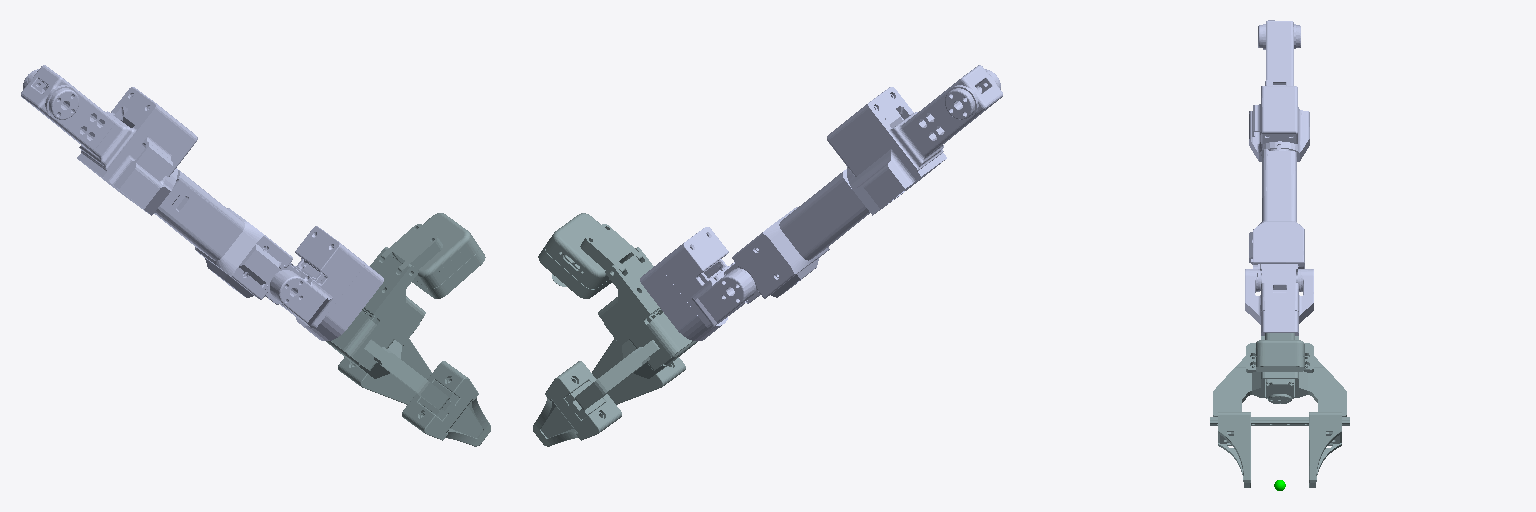
URDF robot description (Alicia_D_v5_6_gripper_50mm):
<?xml version="1.0" encoding="utf-8"?>
<!-- This URDF was automatically created by SolidWorks to URDF Exporter! Originally created by Stephen Brawner (brawner@gmail.com) 
     Commit Version: 1.6.0-4-g7f85cfe  Build Version: 1.6.7995.38578
     For more information, please see http://wiki.ros.org/sw_urdf_exporter -->
<robot
  name="Alicia_D_v5_6_gripper_50mm">
 <mujoco>
    <compiler meshdir="package://alicia_d_descriptions/meshes/Alicia_D_v5_6/gripper_50mm/" discardvisual="false" />
    <contact>
      <exclude body1="base_link" body2="Link1"/>
      <exclude body1="Link1" body2="Link2"/>
      <exclude body1="Link2" body2="Link3"/>
      <exclude body1="Link3" body2="Link4"/>
      <exclude body1="Link4" body2="Link5"/>
      <exclude body1="Link5" body2="Link6"/>
      <exclude body1="Link6" body2="left_gripper"/>
      <exclude body1="left_gripper" body2="right_gripper"/>
    </contact>
  </mujoco>


  <link
    name="base_link">
    <inertial>
      <origin
        xyz="-0.00082623480513569 -0.00797844274231199 0.0457675129193652"
        rpy="0 0 0" />
      <mass
        value="0.733961424024115" />
      <inertia
        ixx="0.00138410344770525"
        ixy="5.67201110400179E-05"
        ixz="-5.14360165173003E-07"
        iyy="0.00173617223701657"
        iyz="1.48652204618575E-05"
        izz="0.00274667683202573" />
    </inertial>
    <visual>
      <origin
        xyz="0 0 0"
        rpy="0 0 0" />
      <geometry>
        <mesh
          filename="package://alicia_d_descriptions/meshes/Alicia_D_v5_6/gripper_50mm/base_link.STL" />
      </geometry>
      <material
        name="">
        <color
          rgba="0.807843137254902 0.843137254901961 0.905882352941176 1" />
      </material>
    </visual>
    <collision>
      <origin
        xyz="0 0 0"
        rpy="0 0 0" />
      <geometry>
        <mesh
          filename="package://alicia_d_descriptions/meshes/Alicia_D_v5_6/gripper_50mm/base_link.STL" />
      </geometry>
    </collision>
  </link>
  <link
    name="Link1">
    <inertial>
      <origin
        xyz="0.000230595970657381 1.29045409715261E-05 0.00303135669887118"
        rpy="0 0 0" />
      <mass
        value="0.195233453613076" />
      <inertia
        ixx="0.000258351125080287"
        ixy="8.79363230587616E-07"
        ixz="6.87511805714776E-07"
        iyy="0.000149307709395501"
        iyz="1.07703111544012E-06"
        izz="0.000339791274038166" />
    </inertial>
    <visual>
      <origin
        xyz="0 0 0"
        rpy="0 0 0" />
      <geometry>
        <mesh
          filename="package://alicia_d_descriptions/meshes/Alicia_D_v5_6/gripper_50mm/Link1.STL" />
      </geometry>
      <material
        name="">
        <color
          rgba="0.796078431372549 0.823529411764706 0.937254901960784 1" />
      </material>
    </visual>
    <collision>
      <origin
        xyz="0 0 0"
        rpy="0 0 0" />
      <geometry>
        <mesh
          filename="package://alicia_d_descriptions/meshes/Alicia_D_v5_6/gripper_50mm/Link1.STL" />
      </geometry>
    </collision>
  </link>
  <joint
    name="Joint1"
    type="revolute">
    <origin
      xyz="0 0 0.1295"
      rpy="0 0 0" />
    <parent
      link="base_link" />
    <child
      link="Link1" />
    <axis
      xyz="0 0 1" />
    <limit
      lower="-2.749"
      upper="2.749"
      effort="5"
      velocity="12" />
  </joint>
  <link
    name="Link2">
    <inertial>
      <origin
        xyz="-0.15058869562262 0.000866069014338703 -0.00065095059586996"
        rpy="0 0 0" />
      <mass
        value="0.207033693061784" />
      <inertia
        ixx="0.000128135500181764"
        ixy="-1.3851037649769E-07"
        ixz="-4.91817924788182E-06"
        iyy="0.000205708390605209"
        iyz="3.50025103450784E-07"
        izz="0.000122721347332604" />
    </inertial>
    <visual>
      <origin
        xyz="0 0 0"
        rpy="0 0 0" />
      <geometry>
        <mesh
          filename="package://alicia_d_descriptions/meshes/Alicia_D_v5_6/gripper_50mm/Link2.STL" />
      </geometry>
      <material
        name="">
        <color
          rgba="0.807843137254902 0.843137254901961 0.905882352941176 1" />
      </material>
    </visual>
    <collision>
      <origin
        xyz="0 0 0"
        rpy="0 0 0" />
      <geometry>
        <mesh
          filename="package://alicia_d_descriptions/meshes/Alicia_D_v5_6/gripper_50mm/Link2.STL" />
      </geometry>
    </collision>
  </link>
  <joint
    name="Joint2"
    type="revolute">
    <origin
      xyz="0 0 0.04287"
      rpy="1.5708 1.5708 0" />
    <parent
      link="Link1" />
    <child
      link="Link2" />
    <axis
      xyz="0 0 1" />
    <limit
      lower="-1.5708"
      upper="1.5708"
      effort="5"
      velocity="12" />
  </joint>
  <link
    name="Link3">
    <inertial>
      <origin
        xyz="0.00248143782929389 -0.055786319810667 0.000269720725051862"
        rpy="0 0 0" />
      <mass
        value="0.0845575681430809" />
      <inertia
        ixx="7.61918370068429E-05"
        ixy="2.26498116289359E-06"
        ixz="-3.82299515503443E-07"
        iyy="2.87941478239853E-05"
        iyz="5.38445390787693E-06"
        izz="8.04370664405606E-05" />
    </inertial>
    <visual>
      <origin
        xyz="0 0 0"
        rpy="0 0 0" />
      <geometry>
        <mesh
          filename="package://alicia_d_descriptions/meshes/Alicia_D_v5_6/gripper_50mm/Link3.STL" />
      </geometry>
      <material
        name="">
        <color
          rgba="0.792156862745098 0.819607843137255 0.933333333333333 1" />
      </material>
    </visual>
    <collision>
      <origin
        xyz="0 0 0"
        rpy="0 0 0" />
      <geometry>
        <mesh
          filename="package://alicia_d_descriptions/meshes/Alicia_D_v5_6/gripper_50mm/Link3.STL" />
      </geometry>
    </collision>
  </link>
  <joint
    name="Joint3"
    type="revolute">
    <origin
      xyz="-0.22367 0.022492 -5E-05"
      rpy="0 0 2.3562" />
    <parent
      link="Link2" />
    <child
      link="Link3" />
    <axis
      xyz="0 0 1" />
    <limit
      lower="-0.78"
      upper="3.14"
      effort="5"
      velocity="12" />
  </joint>
  <link
    name="Link4">
    <inertial>
      <origin
        xyz="0.000298365499180664 -0.000601368964523881 0.0659740390649536"
        rpy="0 0 0" />
      <mass
        value="0.0653695951968861" />
      <inertia
        ixx="7.03004188045845E-05"
        ixy="-9.68417862923774E-09"
        ixz="-7.5013170593354E-07"
        iyy="6.87470297844684E-05"
        iyz="4.45271918047396E-08"
        izz="1.68226189346781E-05" />
    </inertial>
    <visual>
      <origin
        xyz="0 0 0"
        rpy="0 0 0" />
      <geometry>
        <mesh
          filename="package://alicia_d_descriptions/meshes/Alicia_D_v5_6/gripper_50mm/Link4.STL" />
      </geometry>
      <material
        name="">
        <color
          rgba="0.792156862745098 0.819607843137255 0.933333333333333 1" />
      </material>
    </visual>
    <collision>
      <origin
        xyz="0 0 0"
        rpy="0 0 0" />
      <geometry>
        <mesh
          filename="package://alicia_d_descriptions/meshes/Alicia_D_v5_6/gripper_50mm/Link4.STL" />
      </geometry>
    </collision>
  </link>
  <joint
    name="Joint4"
    type="revolute">
    <origin
      xyz="-0.00211 -0.099 0.0002"
      rpy="-1.5708 0 -3.1416" />
    <parent
      link="Link3" />
    <child
      link="Link4" />
    <axis
      xyz="0 0 -1" />
    <limit
      lower="-2.79"
      upper="2.79"
      effort="5"
      velocity="12" />
  </joint>
  <link
    name="Link5">
    <inertial>
      <origin
        xyz="-0.0113684233807493 -0.0308687469815376 0.000870449932961739"
        rpy="0 0 0" />
      <mass
        value="0.0507639016868948" />
      <inertia
        ixx="1.87701017075205E-05"
        ixy="-2.01098609908345E-06"
        ixz="5.15226500256369E-08"
        iyy="2.5102103446527E-05"
        iyz="-4.22412451208311E-08"
        izz="1.72571710040125E-05" />
    </inertial>
    <visual>
      <origin
        xyz="0 0 0"
        rpy="0 0 0" />
      <geometry>
        <mesh
          filename="package://alicia_d_descriptions/meshes/Alicia_D_v5_6/gripper_50mm/Link5.STL" />
      </geometry>
      <material
        name="">
        <color
          rgba="0.792156862745098 0.819607843137255 0.933333333333333 1" />
      </material>
    </visual>
    <collision>
      <origin
        xyz="0 0 0"
        rpy="0 0 0" />
      <geometry>
        <mesh
          filename="package://alicia_d_descriptions/meshes/Alicia_D_v5_6/gripper_50mm/Link5.STL" />
      </geometry>
    </collision>
  </link>
  <joint
    name="Joint5"
    type="revolute">
    <origin
      xyz="0 -0.0005 0.12235"
      rpy="-1.5708 0 0" />
    <parent
      link="Link4" />
    <child
      link="Link5" />
    <axis
      xyz="0 0 -1" />
    <limit
      lower="-1.57"
      upper="1.57"
      effort="5"
      velocity="12" />
  </joint>
  <link
    name="Link6">
    <inertial>
      <origin
        xyz="-0.0274897808293123 1.7881629110631E-05 -0.0342551063340634"
        rpy="0 0 0" />
      <mass
        value="0.130364883211194" />
      <inertia
        ixx="7.59035802571275E-05"
        ixy="-1.14547559093319E-08"
        ixz="3.58078000062359E-06"
        iyy="3.53175388318204E-05"
        iyz="2.09250436990744E-08"
        izz="8.31976009590605E-05" />
    </inertial>
    <visual>
      <origin
        xyz="0 0 0"
        rpy="0 0 0" />
      <geometry>
        <mesh
          filename="package://alicia_d_descriptions/meshes/Alicia_D_v5_6/gripper_50mm/Link6.STL" />
      </geometry>
      <material
        name="">
        <color
          rgba="0.592156862745098 0.666666666666667 0.682352941176471 1" />
      </material>
    </visual>
    <collision>
      <origin
        xyz="0 0 0"
        rpy="0 0 0" />
      <geometry>
        <mesh
          filename="package://alicia_d_descriptions/meshes/Alicia_D_v5_6/gripper_50mm/Link6.STL" />
      </geometry>
    </collision>
  </link>
  <joint
    name="Joint6"
    type="revolute">
    <origin
      xyz="-0.00385 -0.0575 0.001"
      rpy="-1.5708 0 0" />
    <parent
      link="Link5" />
    <child
      link="Link6" />
    <axis
      xyz="0 0 1" />
    <limit
      lower="-3.14"
      upper="3.14"
      effort="5"
      velocity="12" />
  </joint>
  <link
    name="left_gripper">
    <inertial>
      <origin
        xyz="2.97087521250461E-08 -0.0434087591943519 -0.0106558526512254"
        rpy="0 0 0" />
      <mass
        value="0.025646112167786" />
      <inertia
        ixx="6.46830326573765E-06"
        ixy="-2.39543799612646E-11"
        ixz="4.63721294101229E-12"
        iyy="5.13428741941792E-06"
        iyz="-1.26432048814187E-06"
        izz="8.03606347912564E-06" />
    </inertial>
    <visual>
      <origin
        xyz="0 0 0"
        rpy="0 0 0" />
      <geometry>
        <mesh
          filename="package://alicia_d_descriptions/meshes/Alicia_D_v5_6/gripper_50mm/left_gripper.STL" />
      </geometry>
      <material
        name="">
        <color
          rgba="0.592156862745098 0.666666666666667 0.682352941176471 1" />
      </material>
    </visual>
    <collision>
      <origin
        xyz="0 0 0"
        rpy="0 0 0" />
      <geometry>
        <mesh
          filename="package://alicia_d_descriptions/meshes/Alicia_D_v5_6/gripper_50mm/left_gripper.STL" />
      </geometry>
    </collision>
  </link>
  <joint
    name="Gripper"
    type="prismatic">
    <origin
      xyz="0.000199999999998979 0.0254999999999971 -0.130979659620445"
      rpy="-1.5707963267949 0 -3.14159265358979" />
    <parent
      link="Link6" />
    <child
      link="left_gripper" />
    <axis
      xyz="0 0 1" />
    <limit
      lower="0"
      upper="0.025"
      effort="5"
      velocity="12" />
  </joint>
  <link
    name="right_gripper">
    <inertial>
      <origin
        xyz="2.97087521805572E-08 0.0434087591943518 0.0106558526512254"
        rpy="0 0 0" />
      <mass
        value="0.025646112167786" />
      <inertia
        ixx="6.46830326573765E-06"
        ixy="2.3954379953853E-11"
        ixz="-4.63721294505372E-12"
        iyy="5.13428741941794E-06"
        iyz="-1.26432048814187E-06"
        izz="8.03606347912563E-06" />
    </inertial>
    <visual>
      <origin
        xyz="0 0 0"
        rpy="0 0 0" />
      <geometry>
        <mesh
          filename="package://alicia_d_descriptions/meshes/Alicia_D_v5_6/gripper_50mm/right_gripper.STL" />
      </geometry>
      <material
        name="">
        <color
          rgba="0.592156862745098 0.666666666666667 0.682352941176471 1" />
      </material>
    </visual>
    <collision>
      <origin
        xyz="0 0 0"
        rpy="0 0 0" />
      <geometry>
        <mesh
          filename="package://alicia_d_descriptions/meshes/Alicia_D_v5_6/gripper_50mm/right_gripper.STL" />
      </geometry>
    </collision>
  </link>
  <joint
    name="right_finger"
    type="prismatic">
    <origin
      xyz="0.0002 -0.0255 -0.13098"
      rpy="1.5708 0 0" />
    <parent
      link="Link6" />
    <child
      link="right_gripper" />
    <axis
      xyz="0 0 1" />
    <limit
      lower="-0.025"
      upper="0"
      effort="5"
      velocity="12" />
    <mimic joint="Gripper" multiplier="-1" offset="0"/>

  </joint>

  <link
    name="tool0">
    <visual>
      <origin
        xyz="0 0 0"
        rpy="0 0 0" />
      <geometry>
        <sphere radius="0.005" />
      </geometry>
      <material
        name="green_virtual_sphere_material">
        <color
          rgba="0 1 0 1" />
      </material>
    </visual>
  </link>
  <joint
    name="finger"
    type="fixed">
    <origin
      xyz="0.0002 0 -0.13098"
      rpy="0 0 0" />
    <parent
      link="Link6" />
    <child
      link="tool0" />
    <axis
      xyz="0 0 0" />
  </joint>
</robot>

--- Render facts (derived) ---
The picture shows the robot from 3 angles, left to right: view 1: azimuth 30°, elevation 25°; view 2: azimuth 150°, elevation 25°; view 3: azimuth 270°, elevation 25°; orthographic projection.
Model Alicia_D_v5_6_gripper_50mm with 10 links and 9 joints (6 revolute, 2 prismatic, 1 fixed), rooted at base_link, posed every joint at zero.
Links seen in each view (by area): view 1: Link6, Link3, Link4, Link5, left_gripper, right_gripper; view 2: Link6, Link3, Link4, Link5, right_gripper, left_gripper; view 3: Link6, Link4, Link3, Link5, left_gripper, right_gripper.
Link boxes in pixels (x1,y1,x2,y2): Link6: [326, 213, 485, 415]; Link3: [21, 65, 197, 215]; Link4: [154, 170, 300, 304]; Link5: [270, 226, 383, 340]; left_gripper: [402, 361, 490, 446]; right_gripper: [338, 339, 431, 404]; Link6: [538, 213, 696, 415]; Link3: [827, 65, 1002, 215]; Link4: [724, 169, 869, 303]; Link5: [640, 227, 753, 341]; right_gripper: [533, 361, 621, 446]; left_gripper: [592, 338, 685, 404]; Link6: [1210, 333, 1349, 425]; Link4: [1249, 145, 1304, 291]; Link3: [1249, 20, 1309, 161]; Link5: [1245, 269, 1313, 335]; left_gripper: [1218, 412, 1250, 487]; right_gripper: [1309, 412, 1341, 487].
Bounding box of the posed robot: 0.3149 × 0.12 × 0.3093 m (x, y, z).
6 mesh visuals loaded from 9 distinct referenced files (6 binary STL); not drawn: 3 (reference not matched to a file when rendering).
